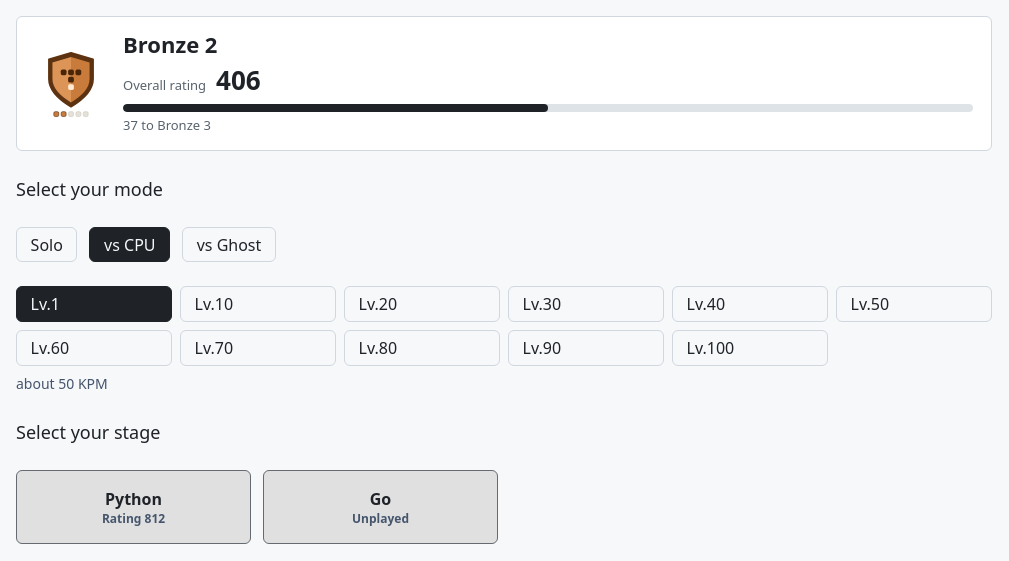
vs Ghost › shows the record of each language for the period, and disables a language with none
The width and height of the screenshot is (1009, 561).
Click the button "vs Ghost". click: (229, 245)
box: [182,227,276,262]
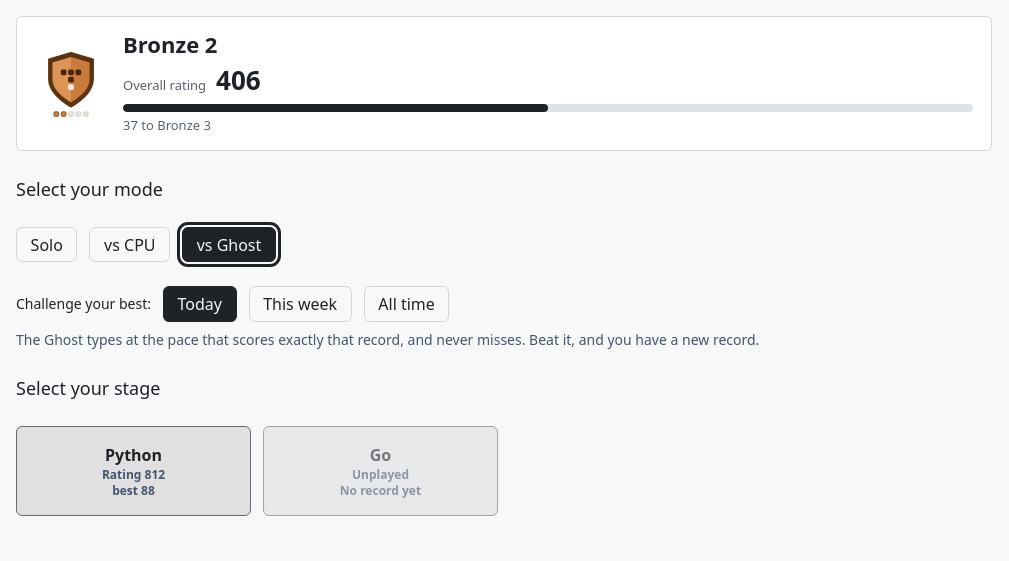
Expected: the button "Python Rating 812 best 88" is enabled, [16,426,251,516]
Now the button "Go Unplayed No record yet" is disabled, box [263,426,498,516]
Note: This week and all time give Go a record.
Click the button "This week". click: (300, 304)
box: [249,286,352,322]
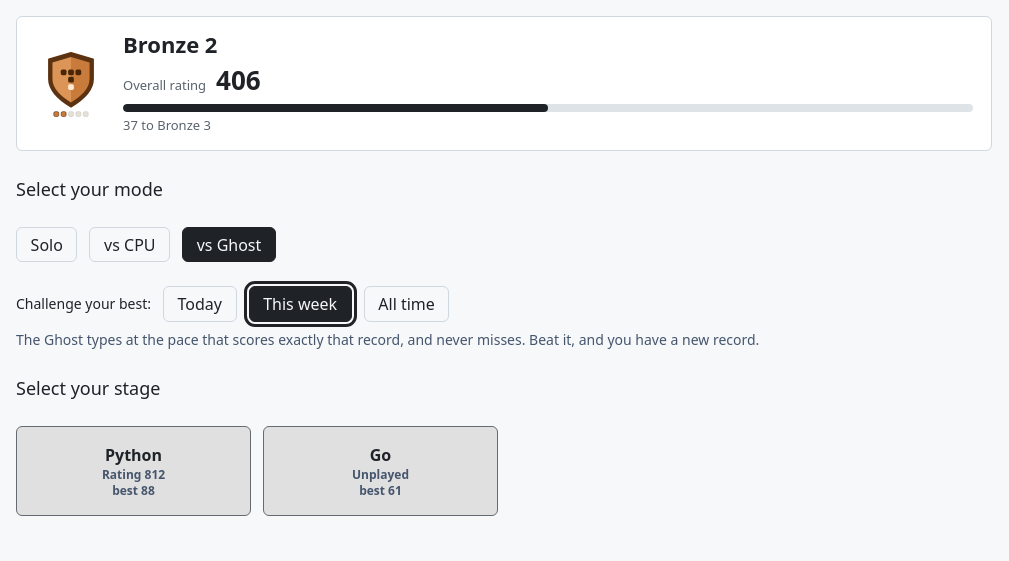
Now the button "Go Unplayed best 61" is enabled, box [263,426,498,516]
Click the button "All time". click: (407, 304)
box: [364,286,449,322]
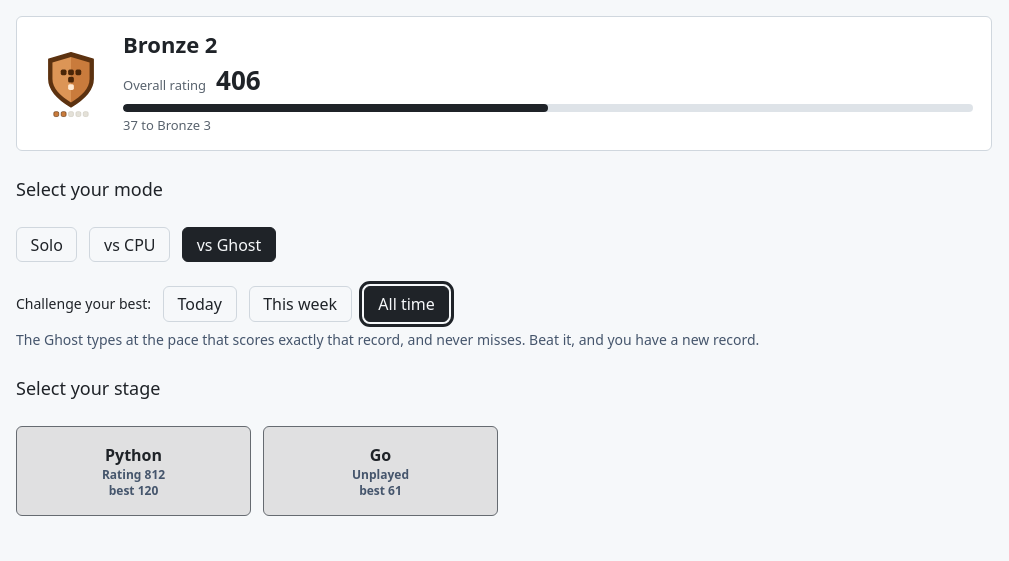
Now the button "Python Rating 812 best 120" is shown, box [16,426,251,516]
